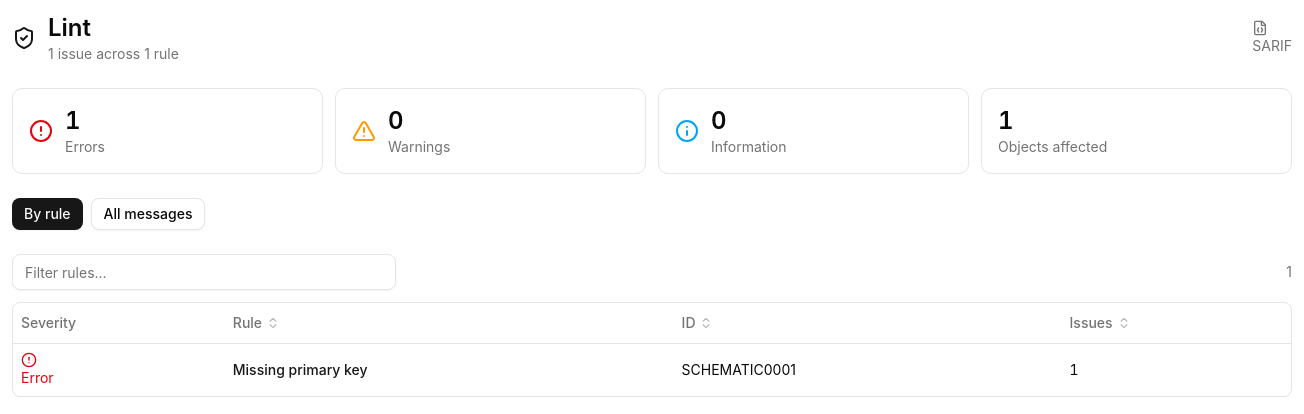
Test: LintPage › selects a rule when its row is clicked
Click the button "Missing primary key": (300, 370) [233,360,368,380]
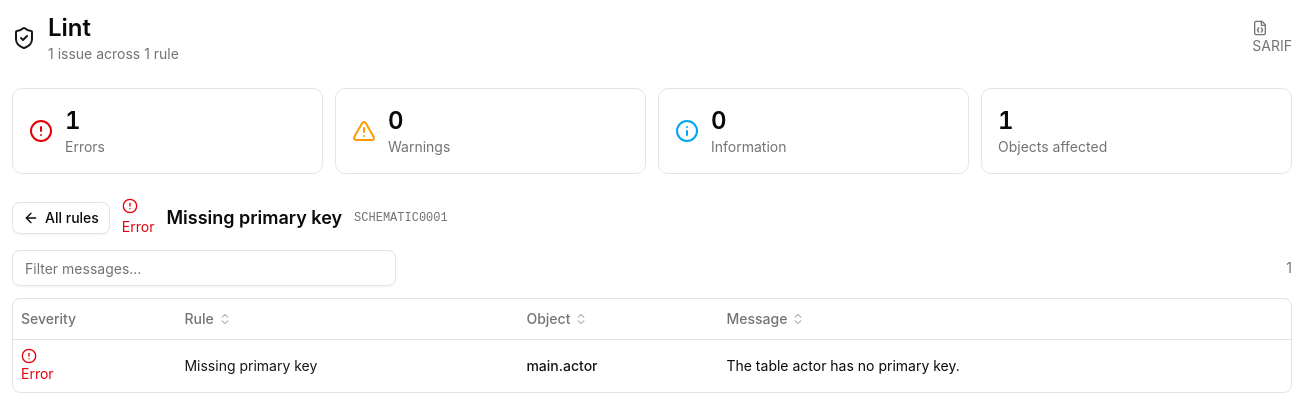
Now the text "The table actor has no primary key." is shown, box [718,339,1291,392]
